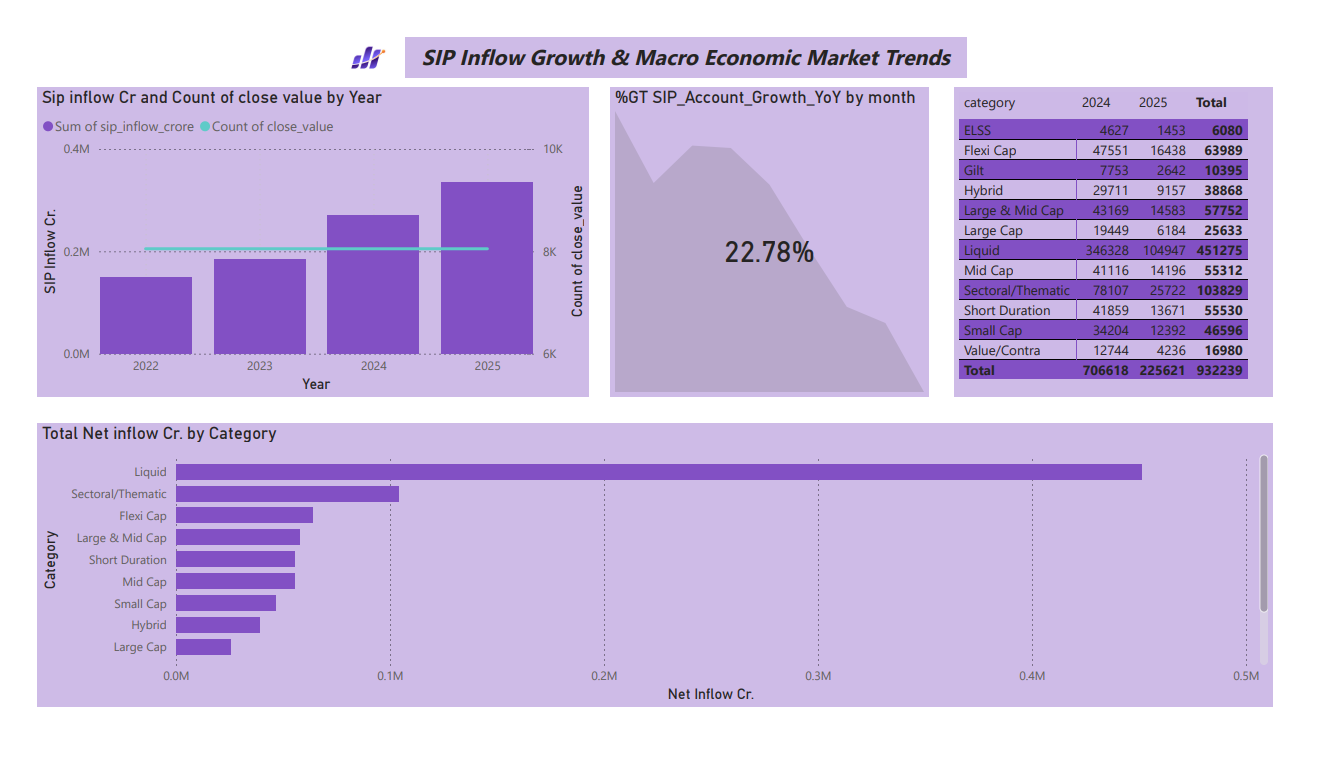

The dashboard page shown, as its layout file describes it:
{"tool":"powerbi","page":{"name":"Page 4","canvas":[1280,720],"ordinal":3},"visuals":[{"type":"lineStackedColumnComboChart","title":"Sip inflow Cr and Count of close value by Year","fields":{"Category":["Fact_Sip_Inflows.month.Variation.Date Hierarchy.Year","Fact_Sip_Inflows.month.Variation.Date Hierarchy.Quarter","Fact_Sip_Inflows.month.Variation.Date Hierarchy.Month","Fact_Sip_Inflows.month.Variation.Date Hierarchy.Day"],"Y":["Sum(Fact_Sip_Inflows.sip_inflow_crore)"],"Y2":["CountNonNull(Fact_benchmark_indices.close_value)"]},"box":[14.3,65.2,551.3,309.8],"z":0},{"type":"pivotTable","fields":{"Rows":["Fact_category_inflows.category"],"Columns":["Fact_category_inflows.month.Variation.Date Hierarchy.Year","Fact_category_inflows.month.Variation.Date Hierarchy.Quarter","Fact_category_inflows.month.Variation.Date Hierarchy.Month","Fact_category_inflows.month.Variation.Date Hierarchy.Day"],"Values":["Sum(Fact_category_inflows.net_inflow_crore)"]},"box":[931.5,65.2,319,309.8],"z":1000},{"type":"clusteredBarChart","title":"Total Net inflow Cr. by Category","fields":{"Category":["Fact_category_inflows.category"],"Y":["Sum(Fact_category_inflows.net_inflow_crore)"]},"box":[14.3,400.5,1236.2,284.3],"z":2000},{"type":"kpi","fields":{"TrendLine":["Fact_Folio_Count.month"],"Indicator":["Fact_Folio_Count.SIP_Account_Growth_YoY"]},"box":[587,65.2,319,309.8],"z":3000},{"type":"textbox","box":[382.2,15.3,561.5,40.8],"z":3001},{"type":"image","box":[259.9,15.3,169.2,40.8],"z":3002}]}

Visuals, with their boxes in screenshot pixels (x1, y1, x2, y2), scaled from the page's 1280x720 canvas onto the 1321x757 screenshot:
"Sip inflow Cr and Count of close value by Year" lineStackedColumnComboChart: (15, 69, 584, 394)
pivotTable - Fact_category_inflows.category x Fact_category_inflows.month.Variation.Date Hierarchy.Year: (961, 69, 1291, 394)
"Total Net inflow Cr. by Category" clusteredBarChart: (15, 421, 1291, 720)
kpi - Fact_Folio_Count.month x Fact_Folio_Count.SIP_Account_Growth_YoY: (606, 69, 935, 394)
textbox: (394, 16, 974, 59)
image: (268, 16, 443, 59)
